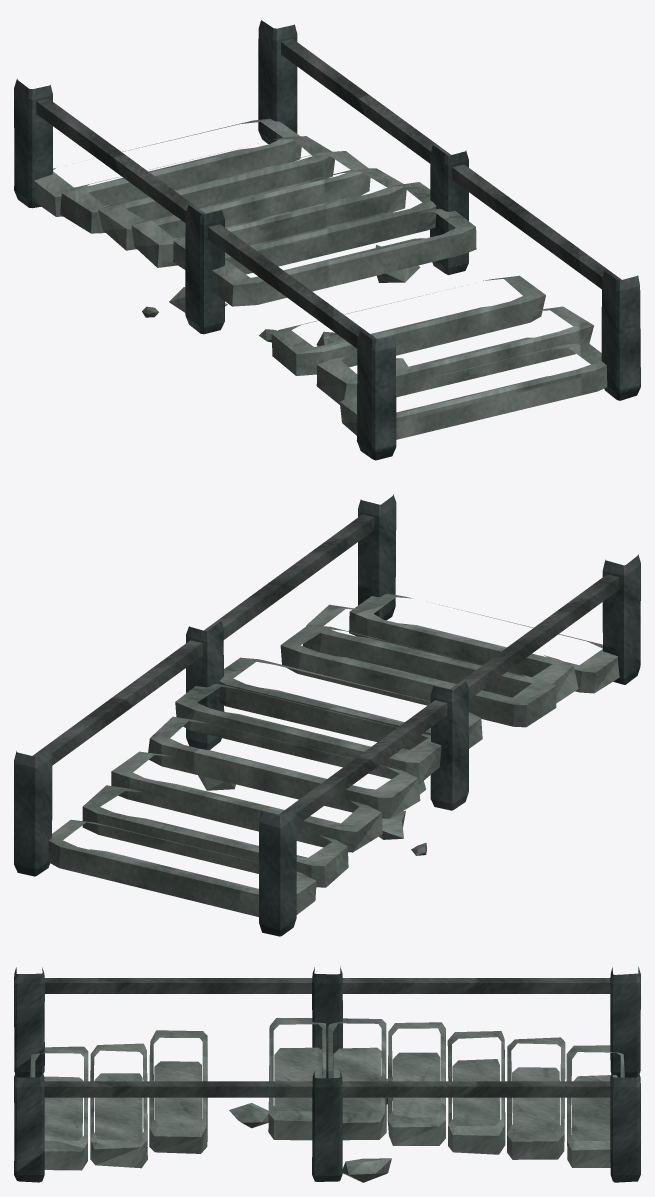
File: 0385_ruined_bridge_10.glb
The picture shows the model from 3 angles, top to bottom: view 1: azimuth 30°, elevation 25°; view 2: azimuth 150°, elevation 25°; view 3: azimuth 270°, elevation 25°; orthographic projection. The views are drawn at different scales.
Parts seen in each view (by area): view 1: stone, stone_dark, iron; view 2: stone, stone_dark, iron; view 3: stone, stone_dark, iron.
Boxes of the visible parts, x1,y1,x2,y2 form: stone: (34,118,607,439); stone_dark: (14,20,640,460); iron: (36,39,621,348); stone: (48,593,619,916); stone_dark: (14,494,640,936); iron: (32,514,619,825); stone: (30,1018,624,1182); stone_dark: (14,966,640,1182); iron: (44,978,610,1097).
Size of the model in its own units: 2.29 by 1.1 by 5.18.
Materials: 3 (3 with a texture image).
